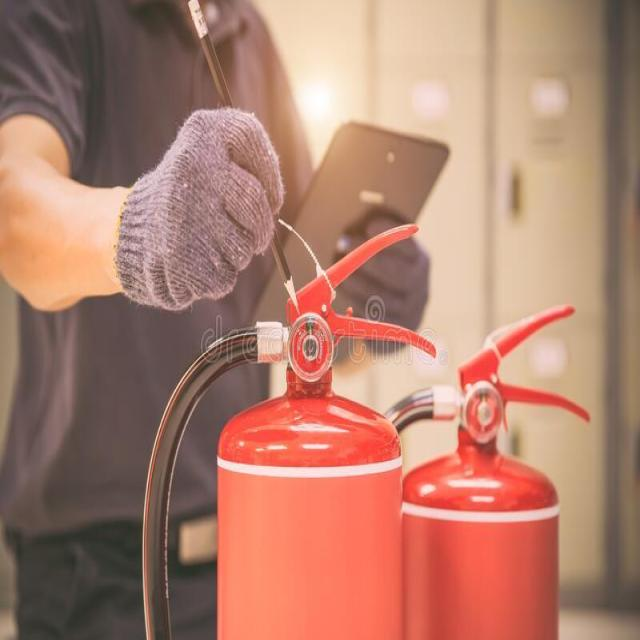fire_extinguisher: (134, 217, 442, 639), (346, 299, 594, 639)
